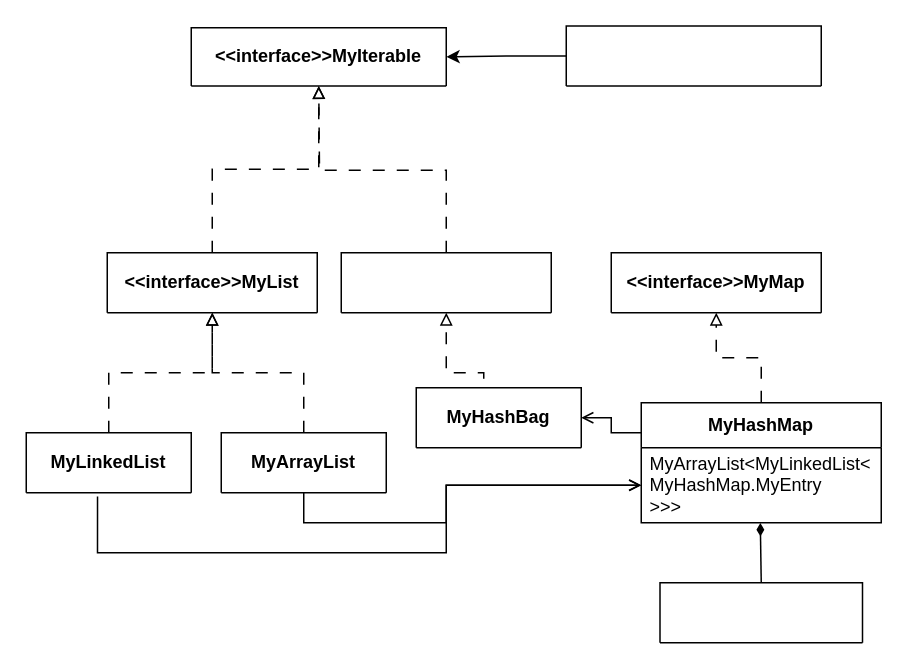
Image size: 908x671. Some labels were removed from this diagram. Here are the shapes that lost their labels. From the top down, the centre of each, then its label:
At point 693,55: "<<interface>>MyIterator".
At point 445,282: "<<interface>>MyBag".
At point 760,612: "MyHashMap.MyEntry".
